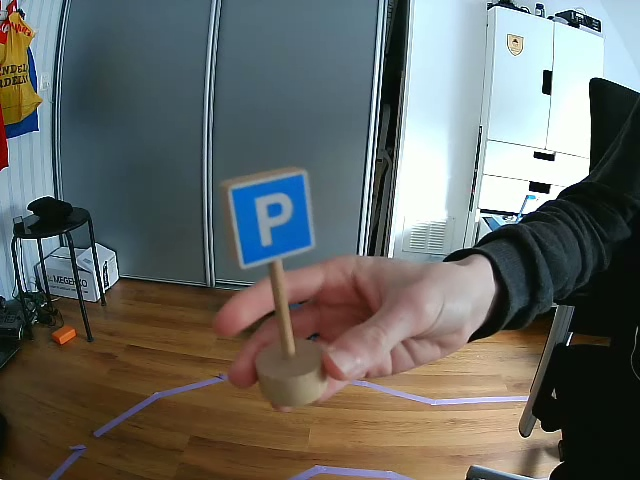parkeerbord: (231, 167, 313, 266)
